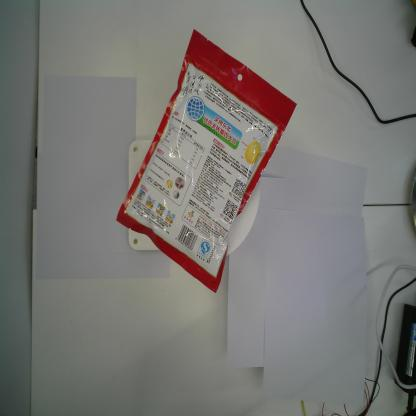Instant Drink: (115, 27, 298, 296)
